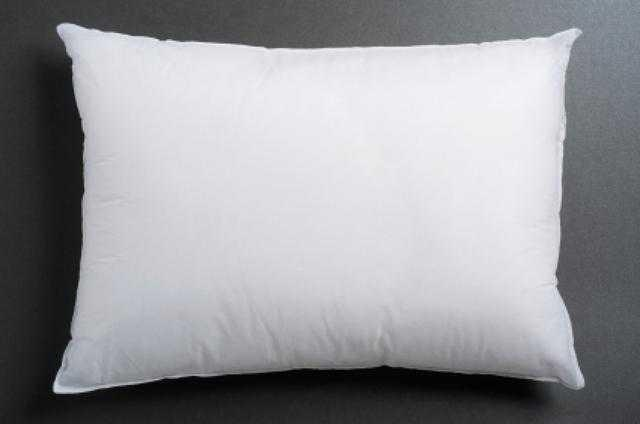pillow: (50, 20, 586, 396)
